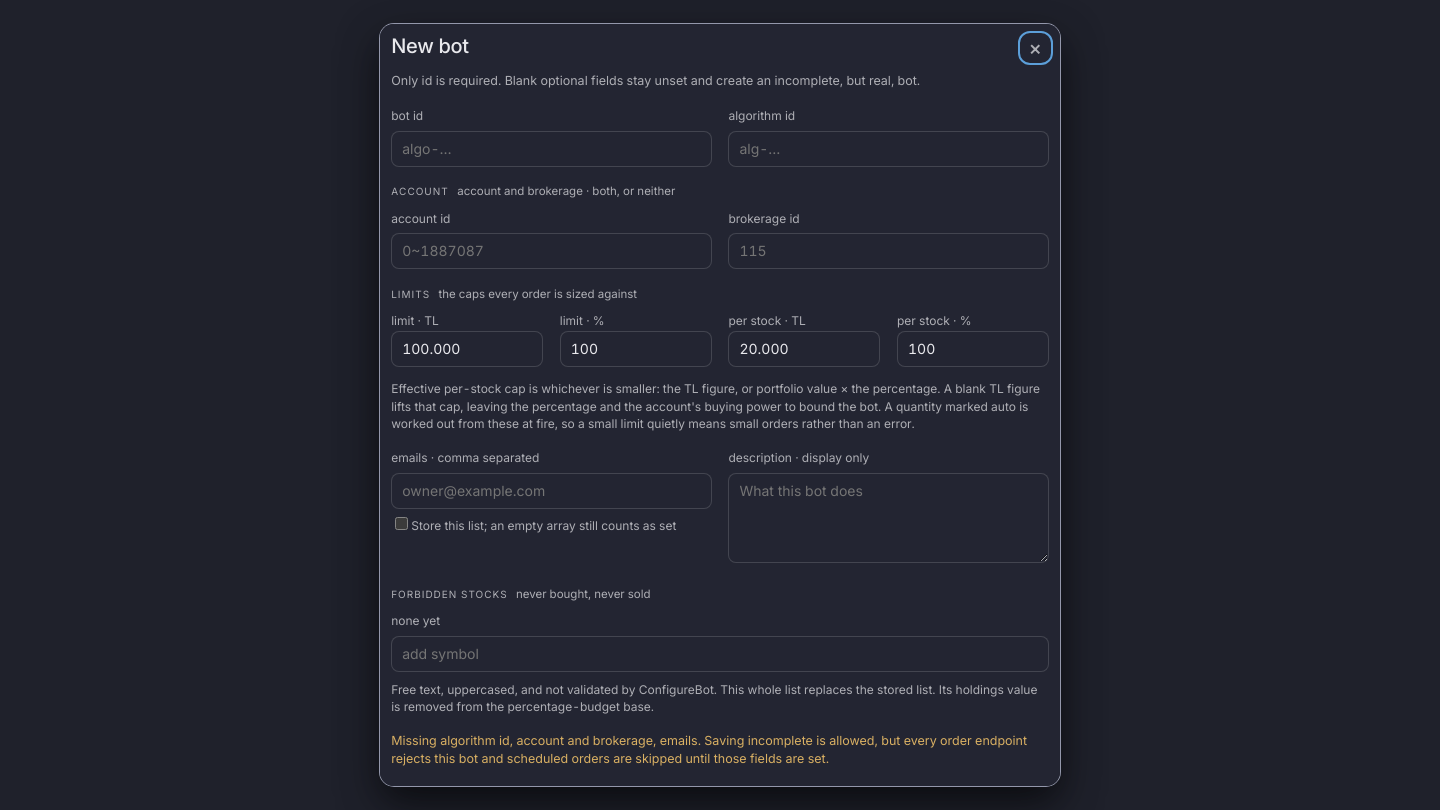
Test: bot ConfigureBot dialogs › blocks a duplicate discovered by the fresh Add preflight
Type "fresh" into the field labelled "bot id" at (551, 149), box [391, 131, 712, 167]
(page scrolled)
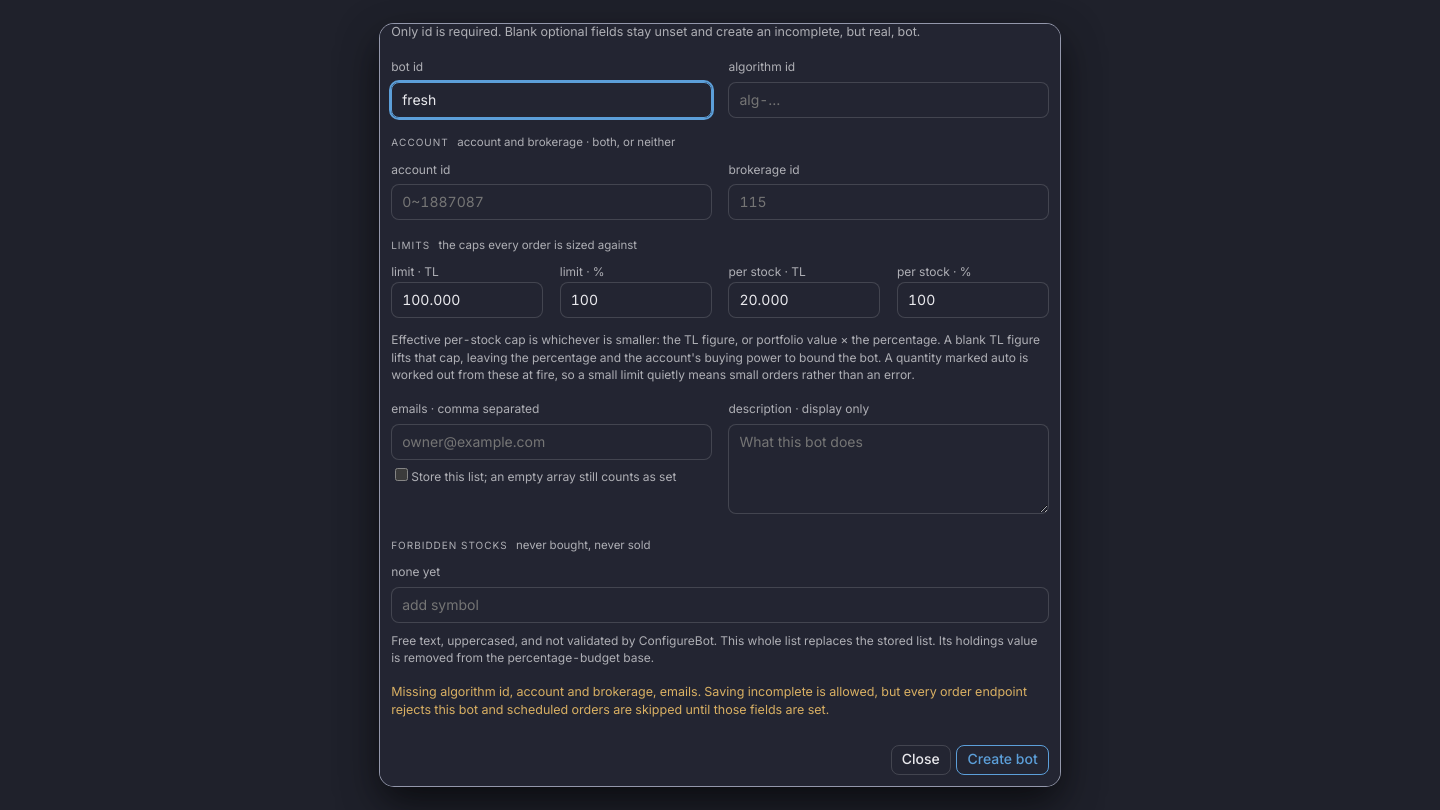
Click the button "Create bot" at (1003, 760), box [956, 745, 1049, 775]
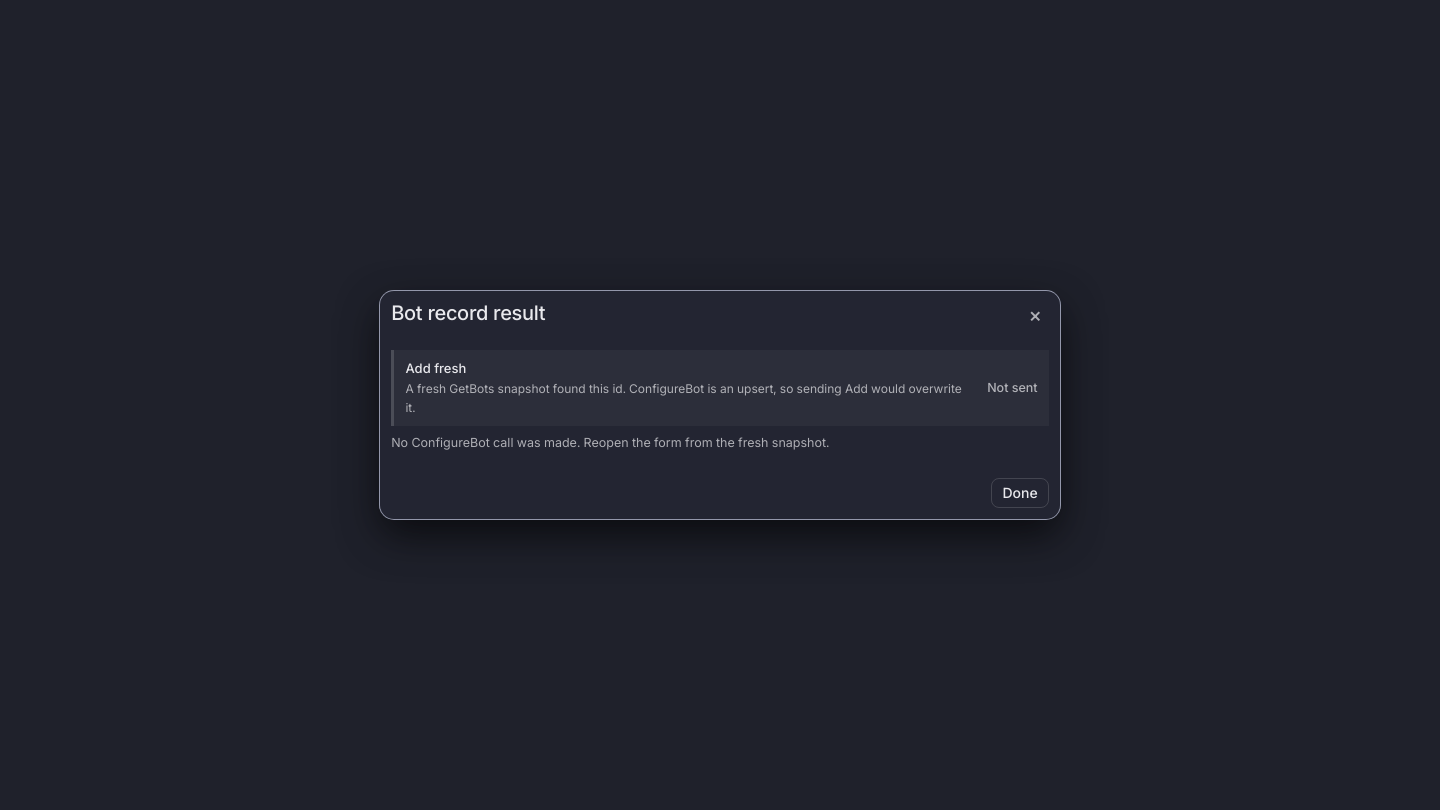
Check: the text "would overwrite it" is shown, box [405, 381, 962, 415]
